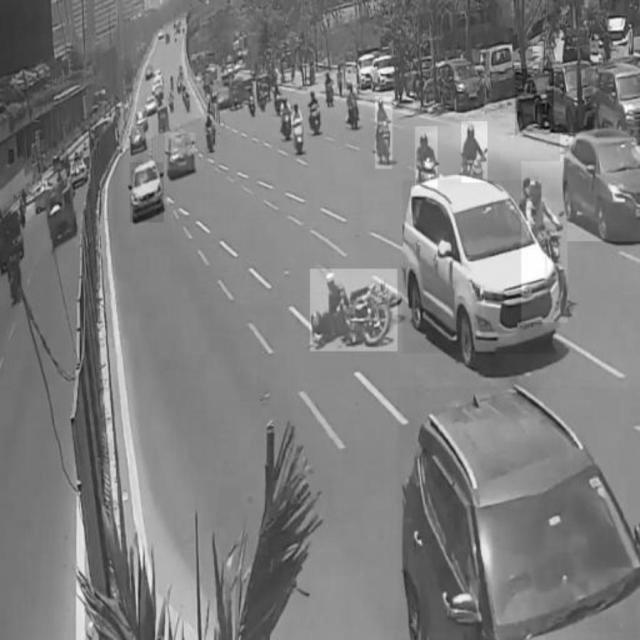vehicle: (397, 386, 639, 632), (402, 180, 556, 354), (560, 132, 640, 242), (522, 162, 568, 322), (310, 269, 398, 351), (595, 64, 640, 138), (547, 63, 594, 133), (515, 69, 553, 133), (130, 162, 164, 223), (462, 122, 488, 183), (415, 127, 437, 188), (376, 97, 393, 169), (166, 133, 196, 170)
